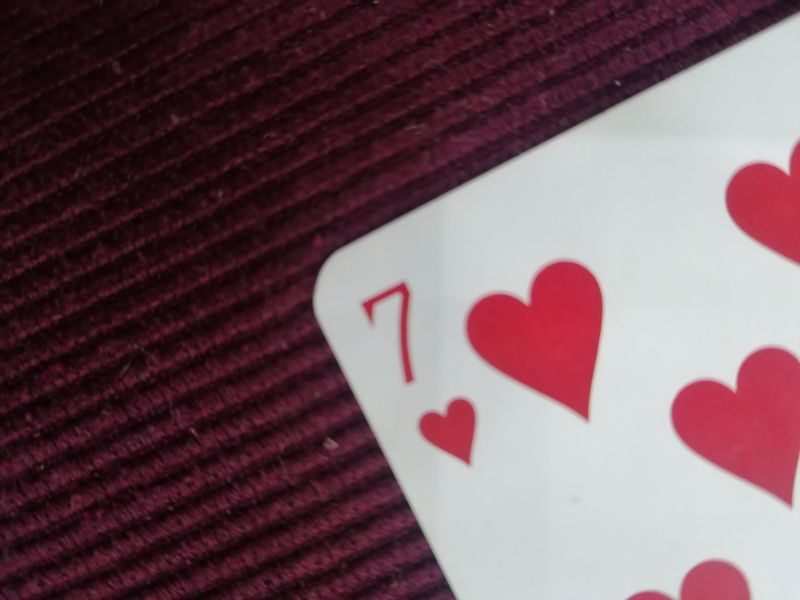7h: (353, 277, 488, 472)
